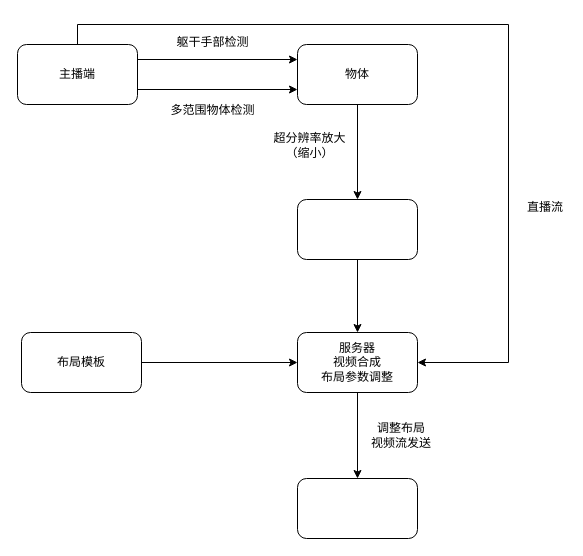
This 583x556 diagram has some shape labels left out. Here are the shapes that lost their labels. From the top down, the centre of each, then its label:
At (x=357, y=229): "物体新贴图".
At (x=357, y=508): "客户端 主播端".
